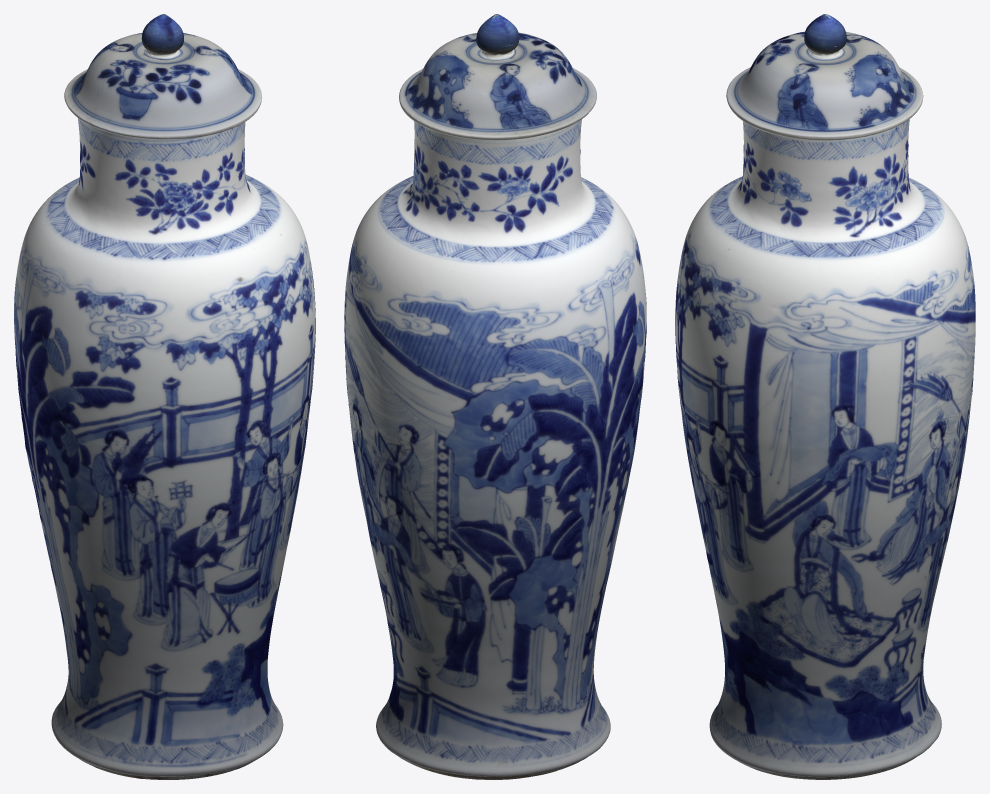
The model's file is baluster_vase_one_of_three_in_a_five-piece.glb.
3 views of the same model, side by side, from view 1: azimuth 30°, elevation 25°; view 2: azimuth 150°, elevation 25°; view 3: azimuth 270°, elevation 25° (orthographic).
Visible parts, largest first — view 1: Object_4, Object_5, Object_2, Object_3; view 2: Object_4, Object_5, Object_2, Object_3; view 3: Object_4, Object_5, Object_2, Object_3.
Boxes of the visible parts, left/top/right/bottom form: Object_4: left=14, top=118, right=315, bottom=779; Object_5: left=14, top=126, right=315, bottom=779; Object_2: left=67, top=14, right=261, bottom=138; Object_3: left=64, top=33, right=259, bottom=139; Object_4: left=344, top=119, right=644, bottom=779; Object_5: left=345, top=123, right=646, bottom=779; Object_2: left=399, top=14, right=596, bottom=140; Object_3: left=400, top=33, right=596, bottom=140; Object_4: left=675, top=119, right=975, bottom=778; Object_5: left=675, top=119, right=974, bottom=779; Object_2: left=726, top=14, right=923, bottom=140; Object_3: left=727, top=36, right=923, bottom=139.
Size of the model in its own units: 0.3292 by 0.871 by 0.3287.
Materials: 2 (2 with a texture image).
